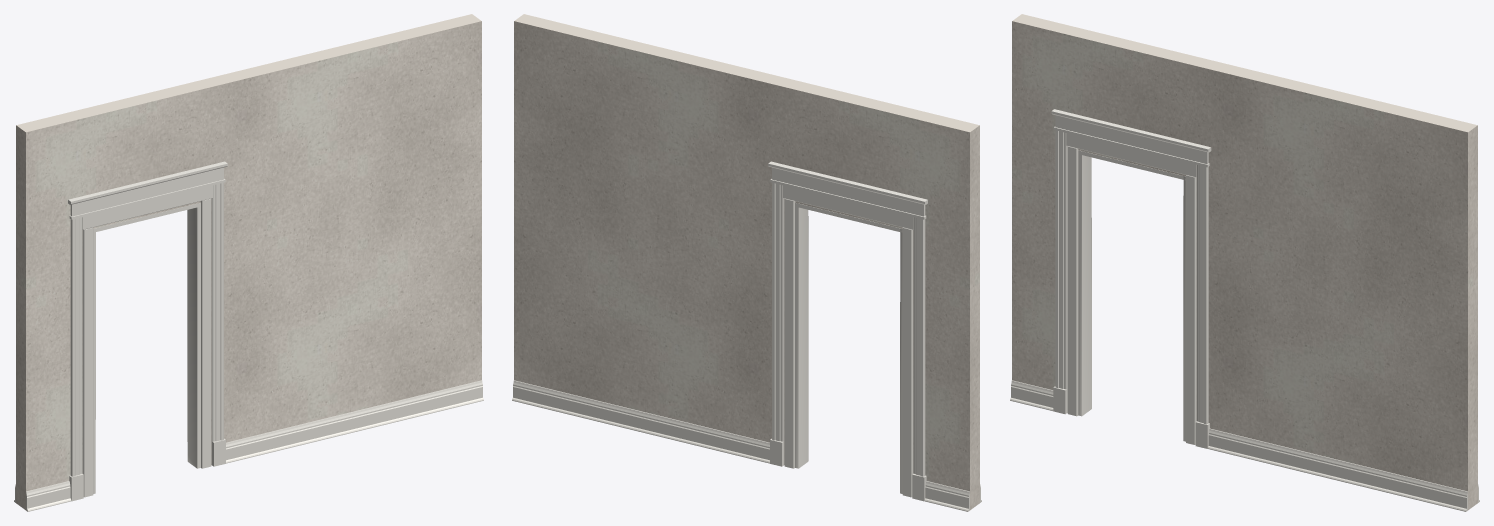
The model's file is iw_cross.glb.
3 renders of one model, left to right at view 1: azimuth 30°, elevation 25°; view 2: azimuth 150°, elevation 25°; view 3: azimuth 330°, elevation 25°, orthographic.
Visible parts, largest first — view 1: iw_cross_plaster, molduras, iw_cross_frame; view 2: iw_cross_plaster, molduras, iw_cross_frame; view 3: iw_cross_plaster, molduras, iw_cross_frame.
Part boxes in pixels (x1,y1,x2,y2): iw_cross_plaster: (16,14,481,510); molduras: (14,161,483,511); iw_cross_frame: (82,185,212,497); iw_cross_plaster: (514,14,979,510); molduras: (512,161,981,511); iw_cross_frame: (783,185,913,497); iw_cross_plaster: (1012,14,1477,510); molduras: (1010,109,1479,511); iw_cross_frame: (1066,133,1196,444).
Bounding box in the file's own units: 3.78 × 2.99 × 0.224.
Materials: 3 (1 with a texture image).
